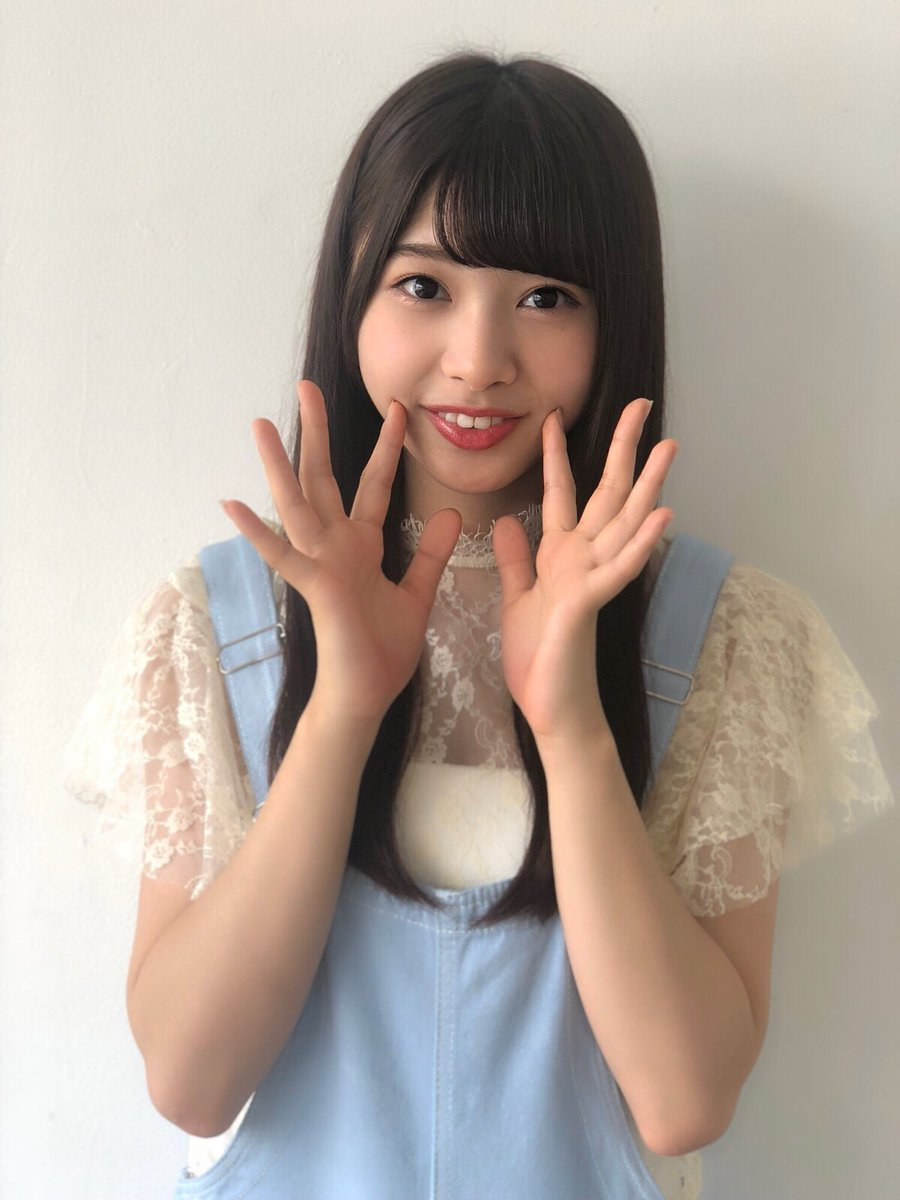face: (357, 182, 602, 499)
hand: (220, 378, 465, 702), (489, 398, 681, 720)
